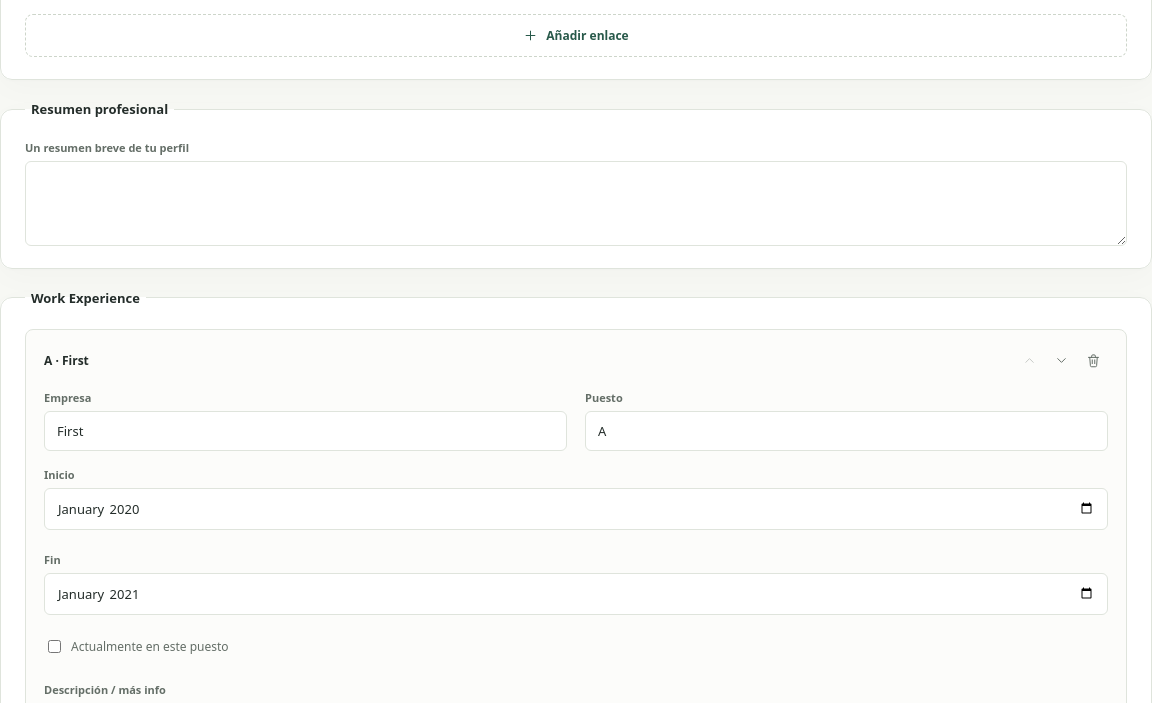
it: ProfileEditor › reorders and removes experience blocks
(page scrolled)
Click the button named "Bajar A · First": {"x": 1061, "y": 360} [1046,346,1076,376]
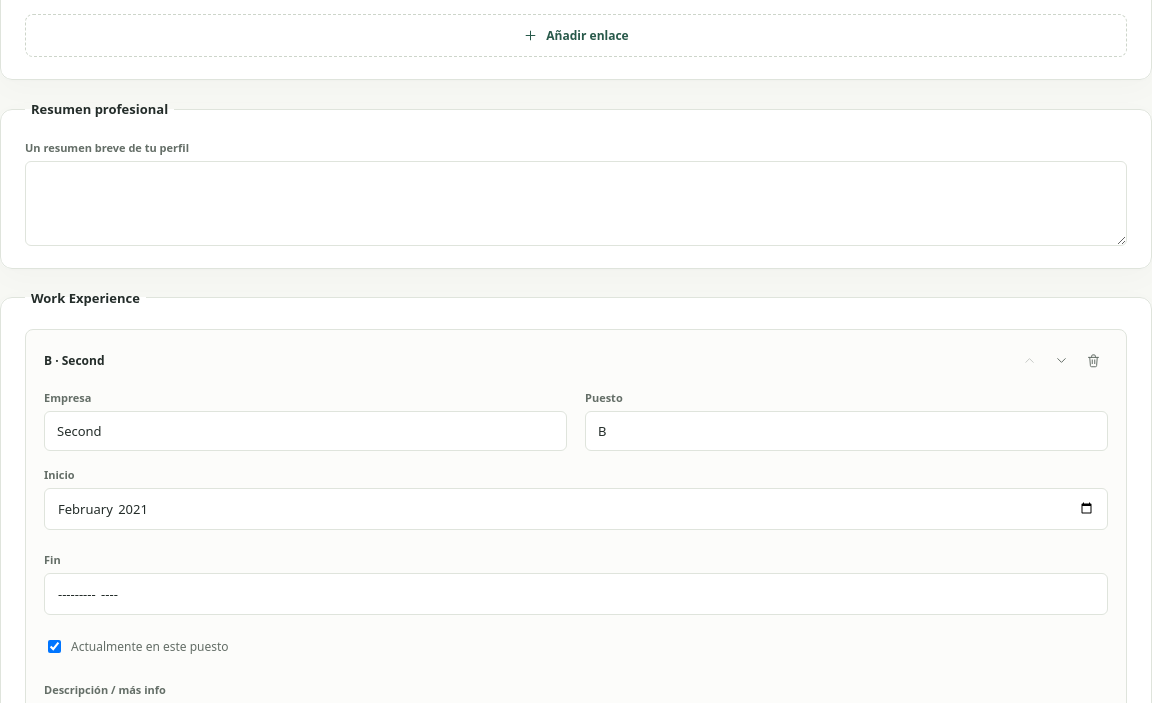
Click the button named "Eliminar B · Second": {"x": 1093, "y": 360} [1078,346,1108,376]
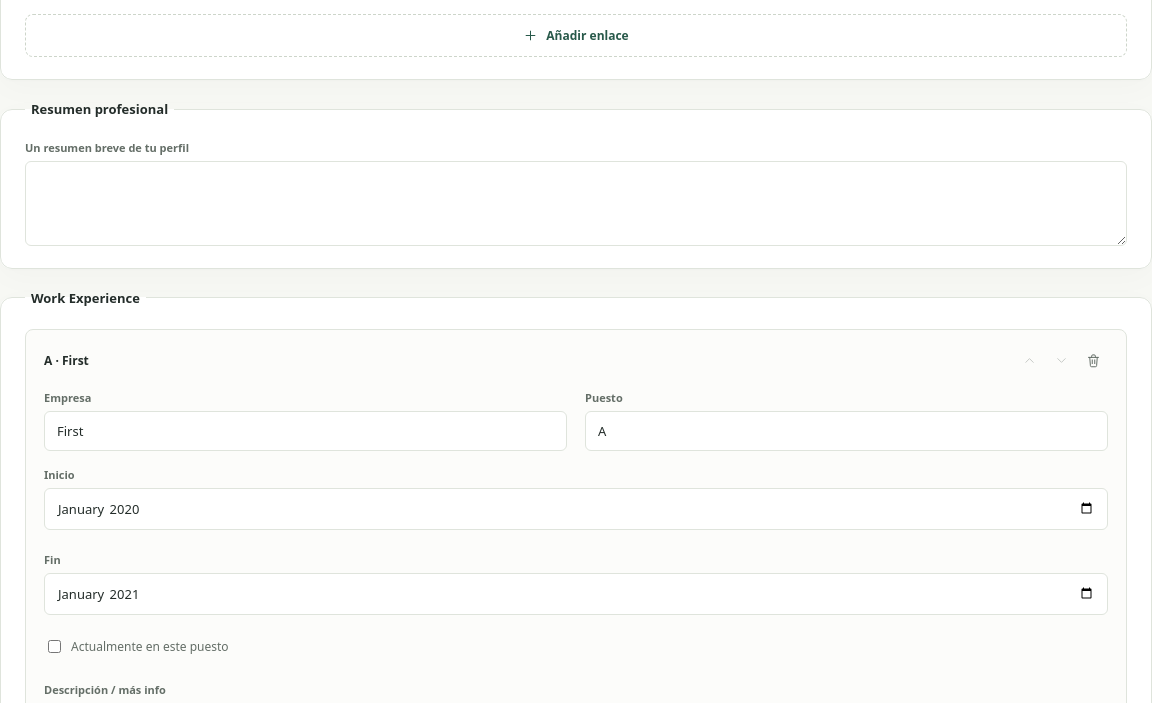
expect the number of fields labelled "Empresa" is 1: met, box [44,410,567,450]
